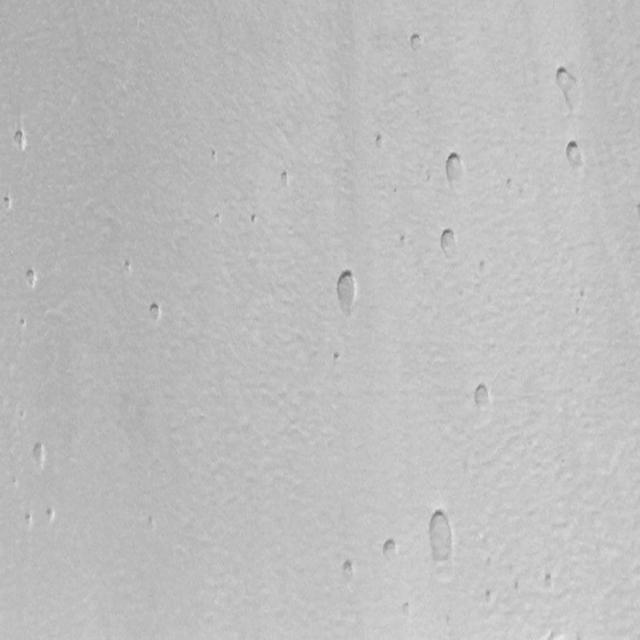pin holes: (419, 506, 459, 573), (549, 60, 586, 123), (332, 265, 362, 315), (441, 148, 469, 188), (469, 382, 495, 415), (436, 226, 461, 258), (562, 139, 585, 173), (28, 441, 49, 469), (9, 126, 30, 154), (379, 536, 401, 562), (339, 558, 360, 585), (145, 300, 166, 326), (407, 31, 427, 56), (479, 584, 498, 610), (22, 266, 40, 293), (1, 192, 17, 216), (542, 573, 559, 594), (399, 600, 415, 622), (371, 132, 389, 151), (277, 168, 293, 188), (44, 505, 58, 526), (396, 232, 412, 250), (122, 258, 136, 277), (23, 511, 35, 530), (504, 177, 517, 194), (209, 149, 222, 165), (247, 212, 260, 228), (483, 588, 495, 605), (332, 349, 345, 364), (213, 212, 225, 228), (477, 255, 486, 274), (547, 629, 564, 639), (17, 316, 29, 330)
